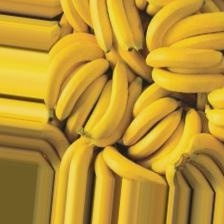banana: (46, 31, 211, 171)
